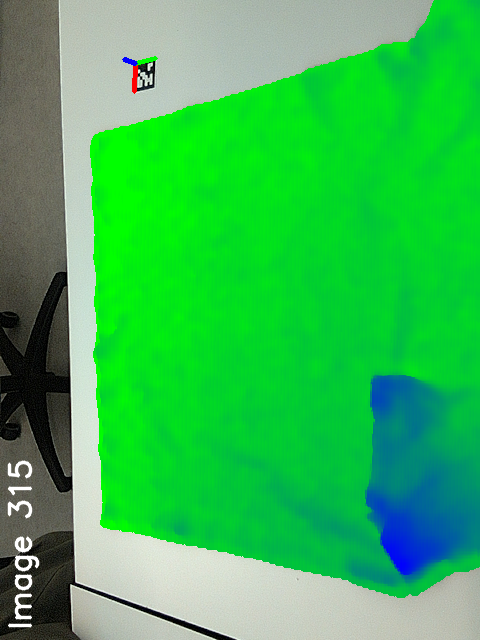V: (364, 360, 408, 410)
